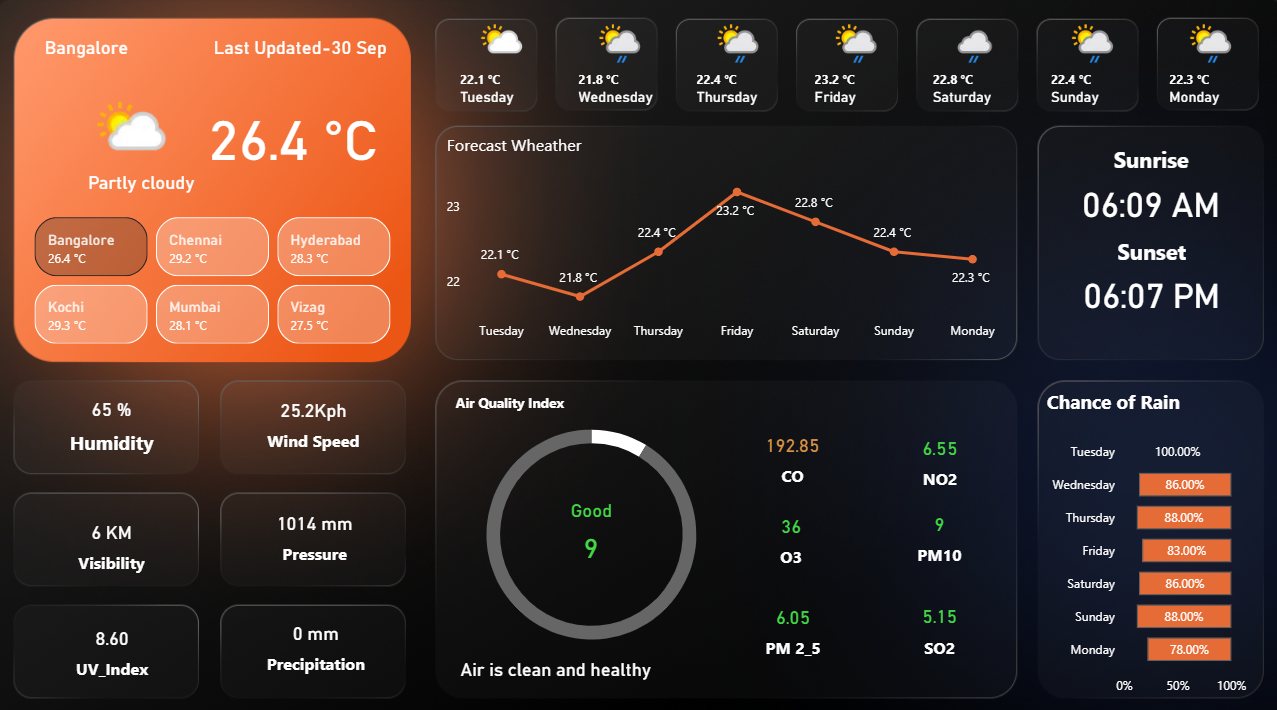

The dashboard page shown, as its layout file describes it:
{"tool":"powerbi","page":{"name":"Analysis","canvas":[1280,720],"ordinal":0},"visuals":[{"type":"advancedSlicerVisual","fields":{"Values":["Locations.location.name"]},"box":[20.9,212.3,400,135],"z":0},{"type":"card","fields":{"Values":["Min(Locations.location.name)"]},"box":[47.9,35.6,98.2,30.7],"z":1000},{"type":"card","fields":{"Values":["_Measures.Curr_temp_C"]},"box":[208.6,85.9,196.3,98.2],"z":2000},{"type":"card","fields":{"Values":["_Measures.Last_Updated_Date_Curr"]},"box":[179.1,27,255.2,49.1],"z":3000},{"type":"card","fields":{"Values":["Min(Current.current.condition.text)"]},"box":[66.3,163.2,169.3,41.7],"z":4000},{"type":"cardVisual","fields":{"Data":["Min(Current.current.condition.icon)"]},"box":[66.3,50.3,132.5,168.1],"z":5000},{"type":"card","fields":{"Values":["_Measures.Humidity"]},"box":[0,359.5,242.9,119],"z":6000},{"type":"card","fields":{"Values":["_Measures.Wind_Speed"]},"box":[162,359.5,315.3,116.6],"z":7000},{"type":"card","fields":{"Values":["_Measures.Visibility"]},"box":[0,488.3,242.9,99.4],"z":8000},{"type":"card","fields":{"Values":["_Measures.Pressure"]},"box":[163.2,471.2,315.3,116.6],"z":9000},{"type":"card","fields":{"Values":["_Measures.UV_Index"]},"box":[8.6,587.7,227,108],"z":10000},{"type":"card","fields":{"Values":["_Measures.Precipitation"]},"box":[164.4,579.1,315.3,116.6],"z":11000},{"type":"advancedSlicerVisual","fields":{"Values":["Forecast_Day.Day_Name"]},"box":[445.4,14.7,817.2,111.7],"z":12000},{"type":"lineChart","title":"Forecast Wheather","fields":{"Y":["Sum(Forecast_Day.forecast.forecastday.day.avgtemp_c)"],"Category":["Forecast_Day.Day_Name"]},"box":[445.4,135,557.1,212.3],"z":13000},{"type":"card","title":"Sunrise","fields":{"Values":["Min(Forecast_Day.forecast.forecastday.astro.sunrise)"]},"box":[1012.3,146,258.9,89.6],"z":14000},{"type":"card","title":"Sunset","fields":{"Values":["Min(Forecast_Day.forecast.forecastday.astro.sunset)"]},"box":[1044.2,235.6,196.3,88.3],"z":15000},{"type":"hundredPercentStackedBarChart","title":"Chance of Rain","fields":{"Y":["Current.Left_Value_rain","Sum(Forecast_Day.forecast.forecastday.day.daily_chance_of_rain)"],"Category":["Forecast_Day.Day_Name"]},"box":[1034.4,385.3,206.1,310.4],"z":16000},{"type":"textbox","box":[454,385.3,144.8,46.6],"z":17000},{"type":"card","fields":{"Values":["Sum(Current.current.air_quality.pm10)"]},"box":[861.6,495.3,145.4,68.6],"z":18000},{"type":"card","fields":{"Values":["Sum(Current.current.air_quality.co)"]},"box":[698.9,413.4,181.4,77.3],"z":19000},{"type":"card","fields":{"Values":["Sum(Current.current.air_quality.no2)"]},"box":[854.7,414.3,159.1,80.9],"z":20000},{"type":"card","fields":{"Values":["Sum(Current.current.air_quality.o3)"]},"box":[703.3,489.2,171,84.8],"z":21000},{"type":"card","fields":{"Values":["Sum(Current.current.air_quality.pm2_5)"]},"box":[705.2,578.9,170.1,83.7],"z":22000},{"type":"card","fields":{"Values":["Sum(Current.current.air_quality.so2)"]},"box":[842.9,566.9,182.8,108],"z":23000},{"type":"donutChart","fields":{"Y":["Sum(Current.current.air_quality.pm10)","_Measures.PM10_Left"]},"box":[396.5,395.1,392.4,267.5],"z":24000},{"type":"card","fields":{"Values":["_Measures.AQI Suggestion TEMPLATE"]},"box":[434.4,614.7,246.6,94.5],"z":25000},{"type":"card","fields":{"Values":["_Measures.AQI_Status_Text"]},"box":[471.2,455.2,242.9,100.6],"z":26000},{"type":"card","fields":{"Values":["Sum(Current.current.air_quality.pm10)"]},"box":[519,506.8,146,68.7],"z":27000}]}

Visuals, with their boxes in screenshot pixels (x1, y1, x2, y2), scaled from the page's 1280x720 canvas onto the 1277x710 screenshot:
advancedSlicerVisual - Locations.location.name: bbox(21, 209, 420, 342)
card - Min(Locations.location.name): bbox(48, 35, 146, 65)
card - _Measures.Curr_temp_C: bbox(208, 85, 404, 182)
card - _Measures.Last_Updated_Date_Curr: bbox(179, 27, 433, 75)
card - Min(Current.current.condition.text): bbox(66, 161, 235, 202)
cardVisual - Min(Current.current.condition.icon): bbox(66, 50, 198, 215)
card - _Measures.Humidity: bbox(0, 355, 242, 472)
card - _Measures.Wind_Speed: bbox(162, 355, 476, 469)
card - _Measures.Visibility: bbox(0, 482, 242, 580)
card - _Measures.Pressure: bbox(163, 465, 477, 580)
card - _Measures.UV_Index: bbox(9, 580, 235, 686)
card - _Measures.Precipitation: bbox(164, 571, 479, 686)
advancedSlicerVisual - Forecast_Day.Day_Name: bbox(444, 14, 1260, 125)
"Forecast Wheather" lineChart: bbox(444, 133, 1000, 342)
"Sunrise" card: bbox(1010, 144, 1268, 232)
"Sunset" card: bbox(1042, 232, 1238, 319)
"Chance of Rain" hundredPercentStackedBarChart: bbox(1032, 380, 1238, 686)
textbox: bbox(453, 380, 597, 426)
card - Sum(Current.current.air_quality.pm10): bbox(860, 488, 1005, 556)
card - Sum(Current.current.air_quality.co): bbox(697, 408, 878, 484)
card - Sum(Current.current.air_quality.no2): bbox(853, 409, 1011, 488)
card - Sum(Current.current.air_quality.o3): bbox(702, 482, 872, 566)
card - Sum(Current.current.air_quality.pm2_5): bbox(704, 571, 873, 653)
card - Sum(Current.current.air_quality.so2): bbox(841, 559, 1023, 666)
donutChart - Sum(Current.current.air_quality.pm10) x _Measures.PM10_Left: bbox(396, 390, 787, 653)
card - _Measures.AQI Suggestion TEMPLATE: bbox(433, 606, 679, 699)
card - _Measures.AQI_Status_Text: bbox(470, 449, 712, 548)
card - Sum(Current.current.air_quality.pm10): bbox(518, 500, 663, 568)
